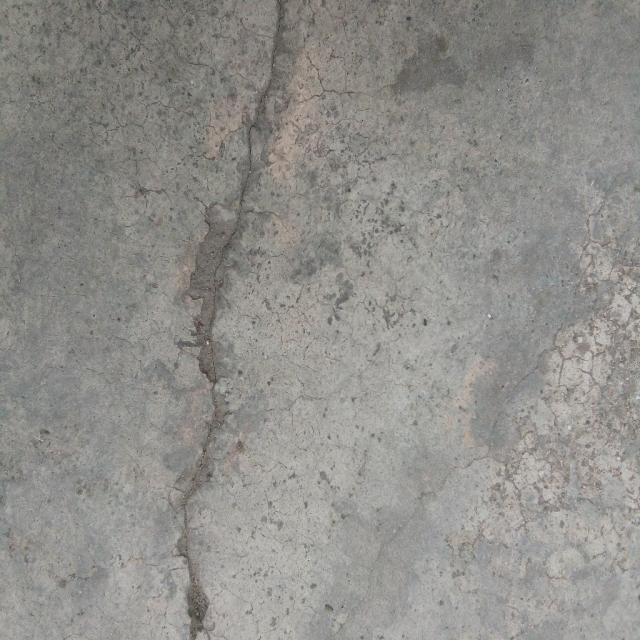cracks: (164, 0, 318, 634)
